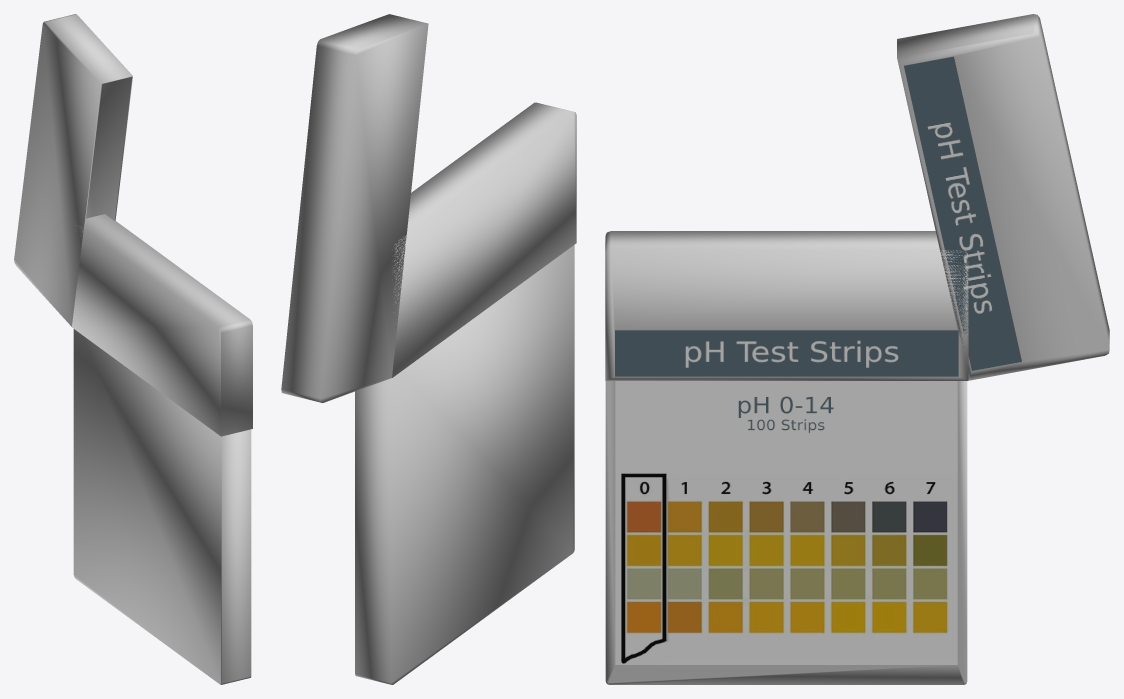
File: pH_TestStripPackage.fbx
3 views of the same model, side by side, from view 1: azimuth 30°, elevation 25°; view 2: azimuth 150°, elevation 25°; view 3: azimuth 270°, elevation 25° (orthographic). The views are drawn at different scales.
Parts seen in each view (by area): view 1: ph_testStripsPackBody, ph_testStripsPackHead_Closed, ph_testStripsPackHeadOpened; view 2: ph_testStripsPackBody, ph_testStripsPackHeadOpened, ph_testStripsPackHead_Closed; view 3: ph_testStripsPackBody, ph_testStripsPackHead_Closed, ph_testStripsPackHeadOpened.
Boxes of the visible parts, x1,y1,x2,y2 form: ph_testStripsPackBody: (73,329,251,684); ph_testStripsPackHead_Closed: (72,214,252,436); ph_testStripsPackHeadOpened: (14,14,132,326); ph_testStripsPackBody: (355,245,574,684); ph_testStripsPackHeadOpened: (281,14,428,402); ph_testStripsPackHead_Closed: (392,102,576,377); ph_testStripsPackBody: (605,381,967,684); ph_testStripsPackHead_Closed: (605,231,968,380); ph_testStripsPackHeadOpened: (897,14,1109,380).
Bounding box in the file's own units: 0.0105 × 0.1688 × 0.1183.
